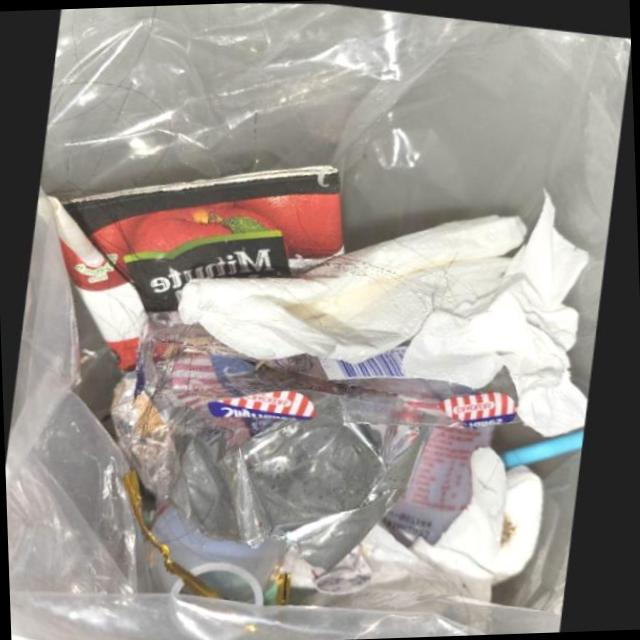bao_bi_thuc_pham: (144, 308, 522, 423)
giay: (181, 209, 530, 360), (404, 182, 592, 432), (286, 441, 549, 598)
hop_nhua: (150, 498, 293, 602)
ong_hut_nhua: (49, 195, 107, 265), (505, 423, 589, 463)
vo_hop_sua: (62, 161, 347, 370)
